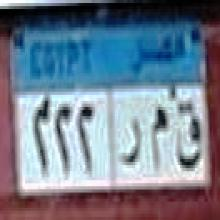2: (31, 98, 51, 178), (76, 103, 98, 173), (54, 102, 74, 176)
meem: (147, 101, 168, 172)
qaaf: (174, 99, 201, 179)
raa: (118, 113, 143, 170)
